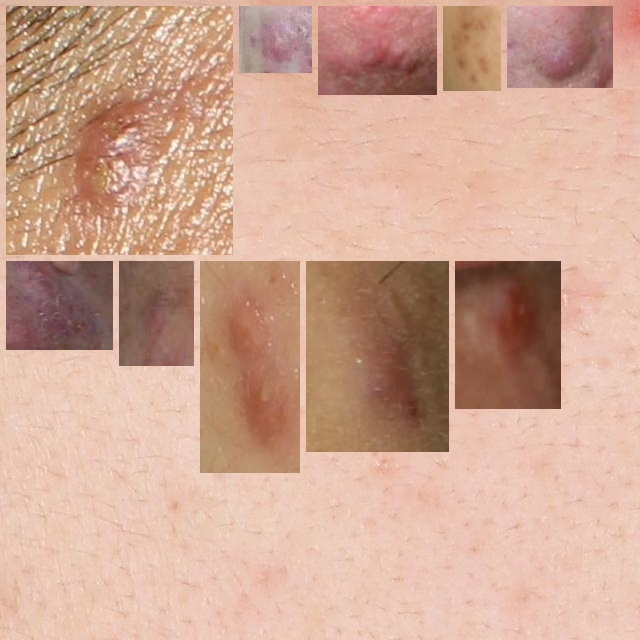nodule: (14, 14, 225, 247), (314, 269, 441, 444), (208, 269, 292, 465), (463, 269, 553, 401), (326, 14, 429, 87), (14, 269, 105, 342), (515, 14, 605, 80), (127, 269, 186, 358), (247, 14, 304, 65), (451, 14, 493, 83)
